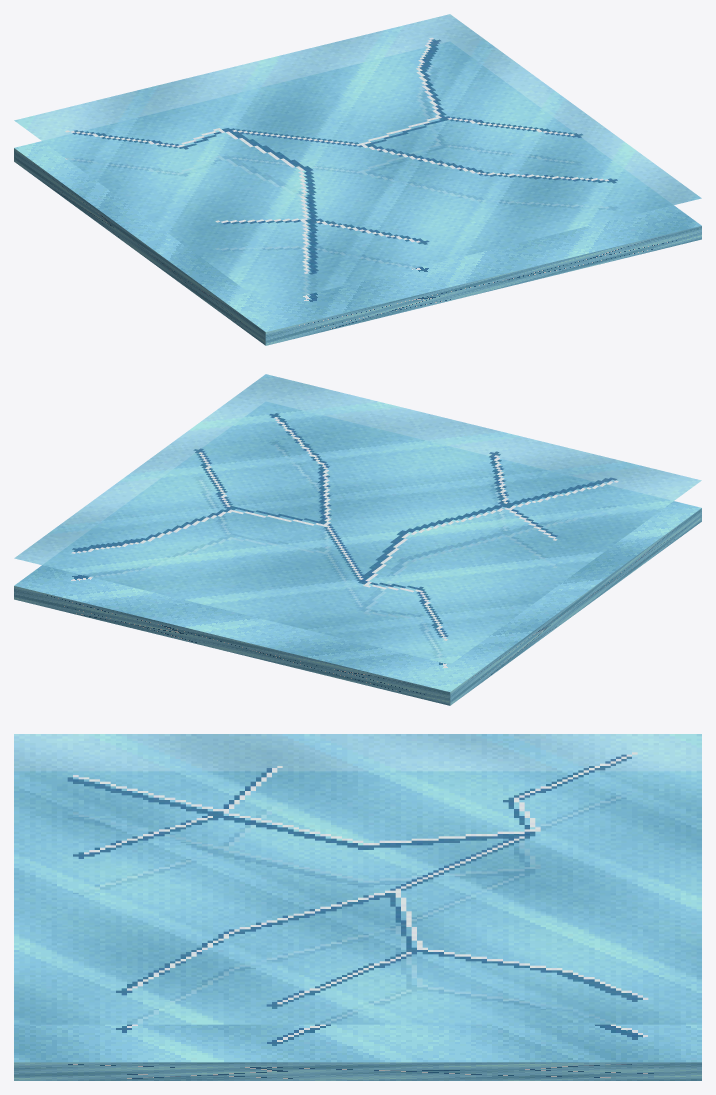
Rendered from placa_de_gelo.glb.
The picture shows the model from 3 angles, top to bottom: view 1: azimuth 30°, elevation 25°; view 2: azimuth 150°, elevation 25°; view 3: azimuth 270°, elevation 25°; orthographic projection. The views are drawn at different scales.
Visible parts, largest first — view 1: Liquid_Ice, IceDepth; view 2: Liquid_Ice, IceDepth; view 3: Liquid_Ice, IceDepth.
Boxes of the visible parts, <box> form: Liquid_Ice: <box>14,14,701,304</box>; IceDepth: <box>14,42,701,345</box>; Liquid_Ice: <box>14,374,701,664</box>; IceDepth: <box>14,402,701,705</box>; Liquid_Ice: <box>14,734,701,1024</box>; IceDepth: <box>14,772,701,1080</box>.
Bounding box in the file's own units: 2 × 0.18 × 2.
2 materials, 2 textured.
